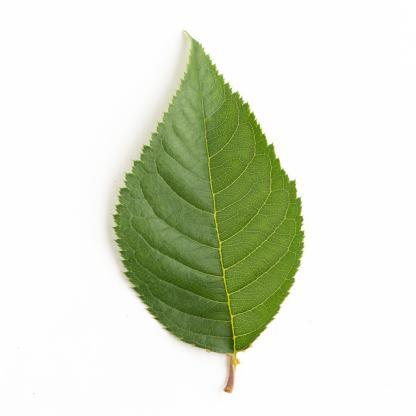Cherry leaf: (110, 22, 324, 363)
